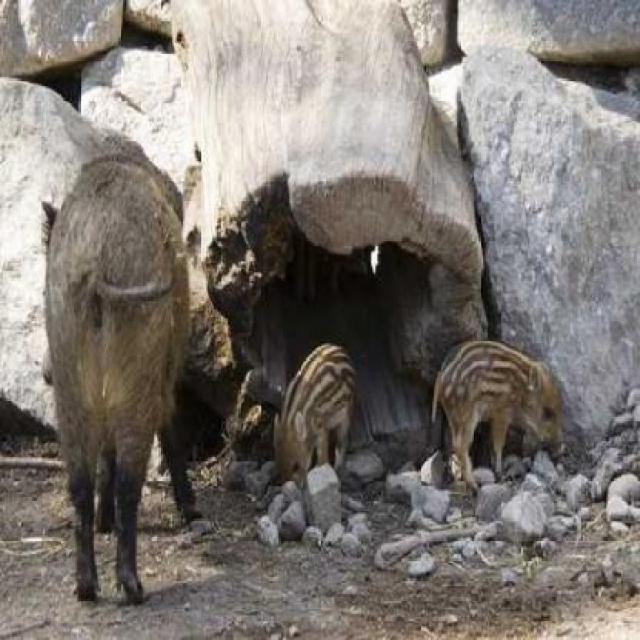pig: (0, 105, 211, 584), (410, 309, 582, 515), (263, 323, 342, 499)
